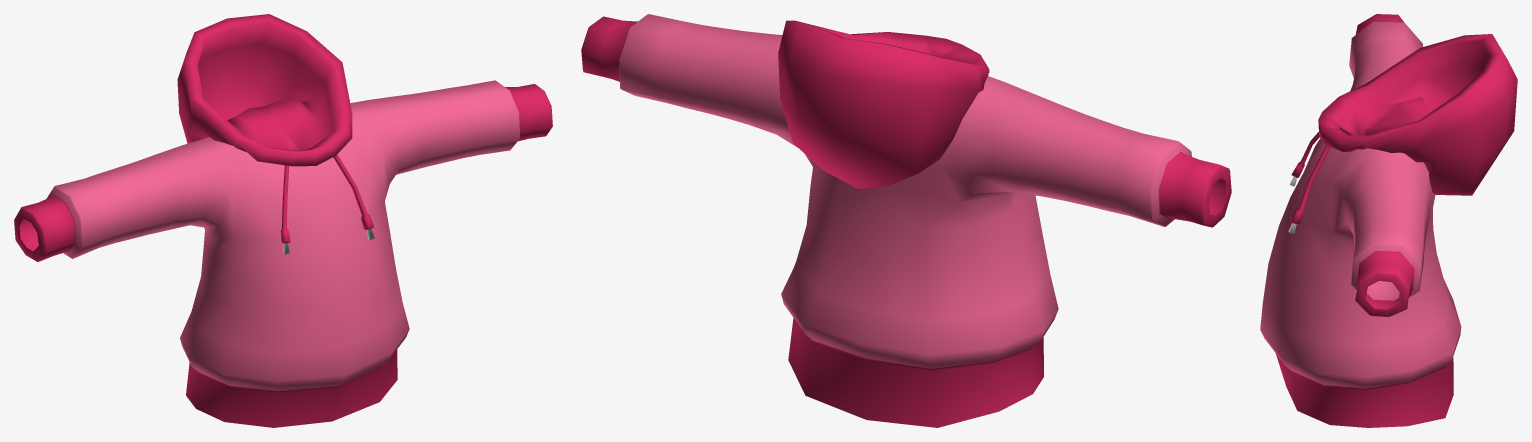
File: Outerwear_Pink_001.glb
3 views of the same model, side by side, from view 1: azimuth 30°, elevation 25°; view 2: azimuth 150°, elevation 25°; view 3: azimuth 270°, elevation 25° (orthographic). The views are drawn at different scales.
Parts seen in each view (by area): view 1: Outerwear_Pink_001; view 2: Outerwear_Pink_001; view 3: Outerwear_Pink_001.
Part boxes in pixels (bbox=[...]): Outerwear_Pink_001: bbox=[14, 14, 552, 427]; Outerwear_Pink_001: bbox=[581, 14, 1231, 427]; Outerwear_Pink_001: bbox=[1260, 14, 1517, 427].
Bounding box in the file's own units: 1.27 × 0.7836 × 0.5333.
1 material, 1 textured.
